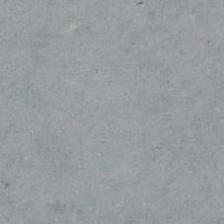Non_Crack: (16, 15, 224, 224)
